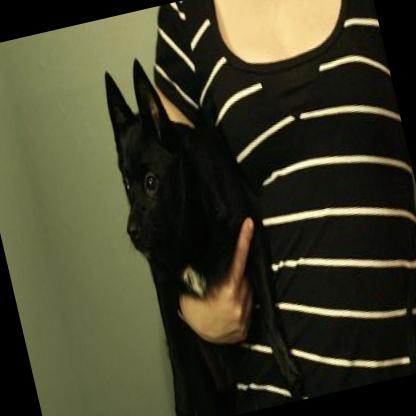schipperke: (82, 28, 310, 416)
